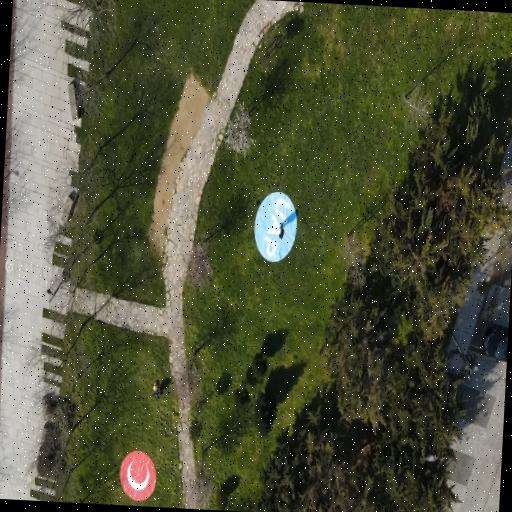UAP: (120, 451, 157, 502)
car: (255, 192, 298, 262)
person: (278, 222, 283, 238)
